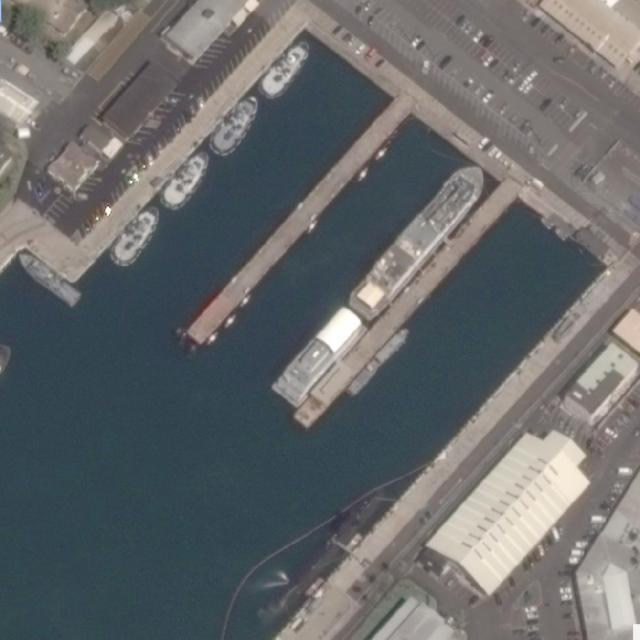Cargo: (343, 156, 495, 325)
Dock: (178, 96, 415, 348), (292, 180, 515, 434)
Hovercraft: (204, 89, 270, 160), (254, 32, 319, 100), (153, 145, 218, 213), (105, 201, 169, 270)
Other Ship: (14, 248, 85, 309)
Submarine: (250, 479, 397, 634)
